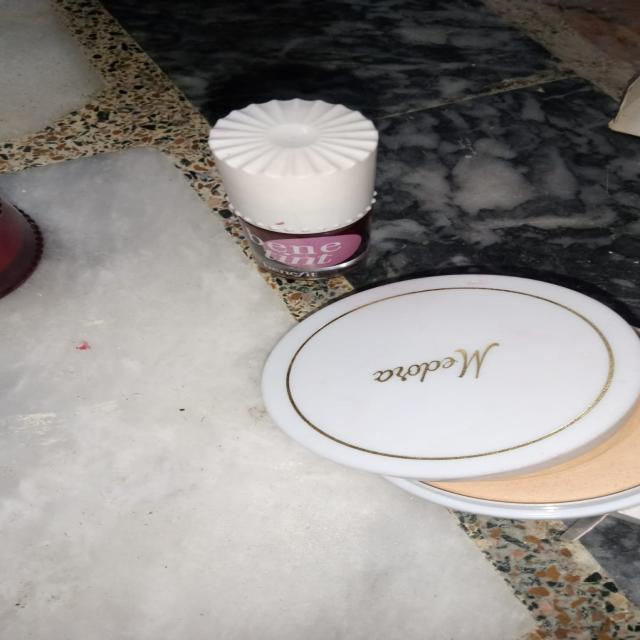Tint: (193, 105, 397, 274)
powder: (264, 278, 640, 522)
